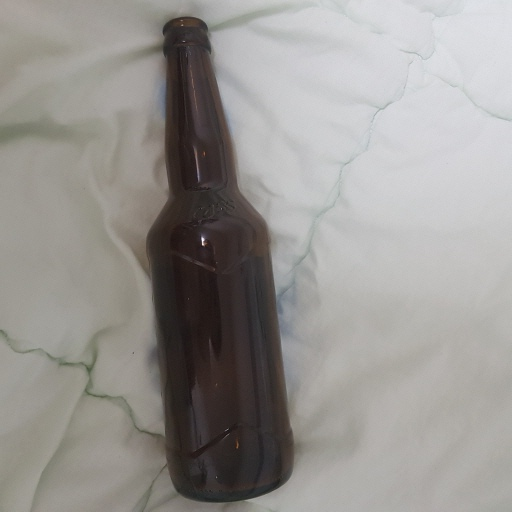Glass_1: (142, 15, 298, 501)
